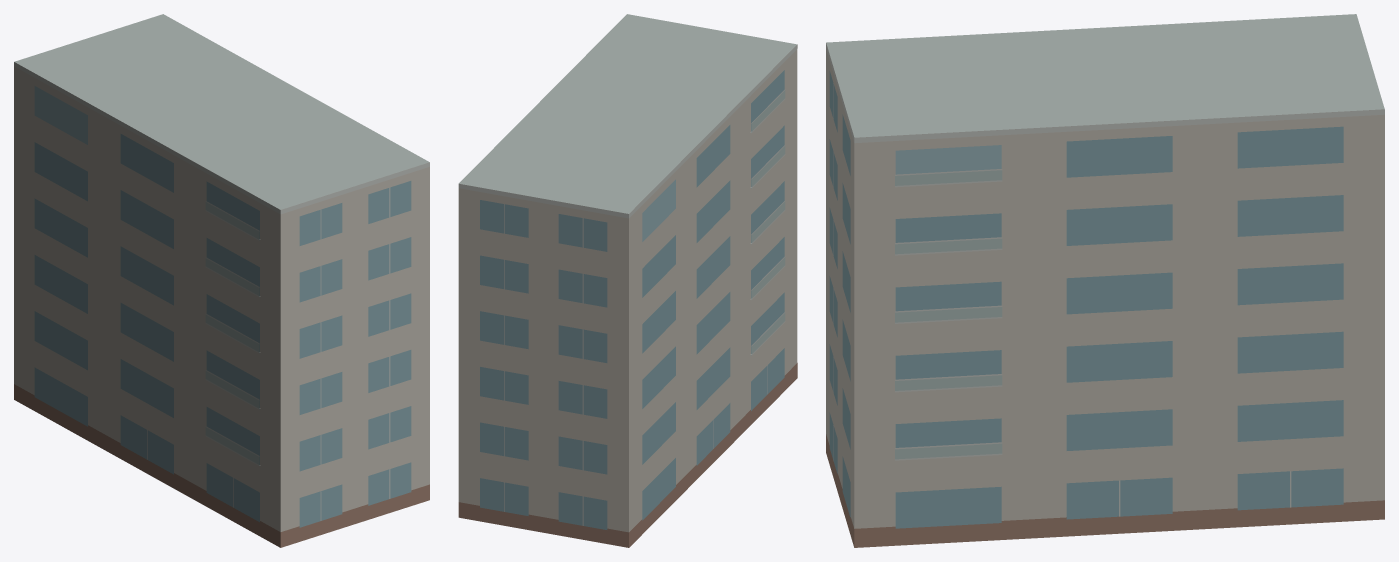
Rendered from survey-upis-32728326.glb.
3 views of the same model, side by side, from view 1: azimuth 30°, elevation 25°; view 2: azimuth 150°, elevation 25°; view 3: azimuth 270°, elevation 25° (orthographic). The views are drawn at different scales.
Visible parts, largest first — view 1: survey-upis-32728326.tmp; view 2: survey-upis-32728326.tmp; view 3: survey-upis-32728326.tmp.
Part boxes in pixels (x1,y1,x2,y2): survey-upis-32728326.tmp: (14,14,429,547); survey-upis-32728326.tmp: (458,14,797,547); survey-upis-32728326.tmp: (826,14,1384,547).
Bounding box in the file's own units: 11.85 × 18.3 × 22.6.
